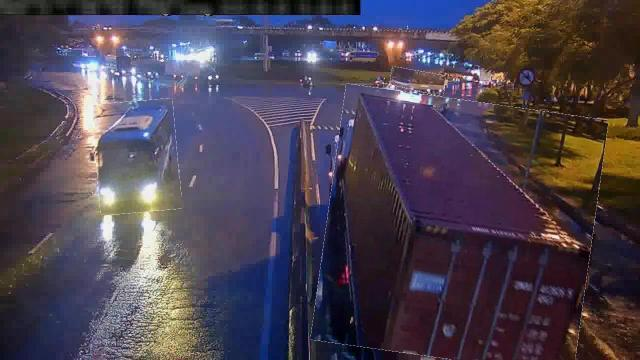Bus: (94, 100, 180, 214), (380, 86, 432, 116)
Truck: (319, 92, 601, 360), (390, 70, 446, 94)
